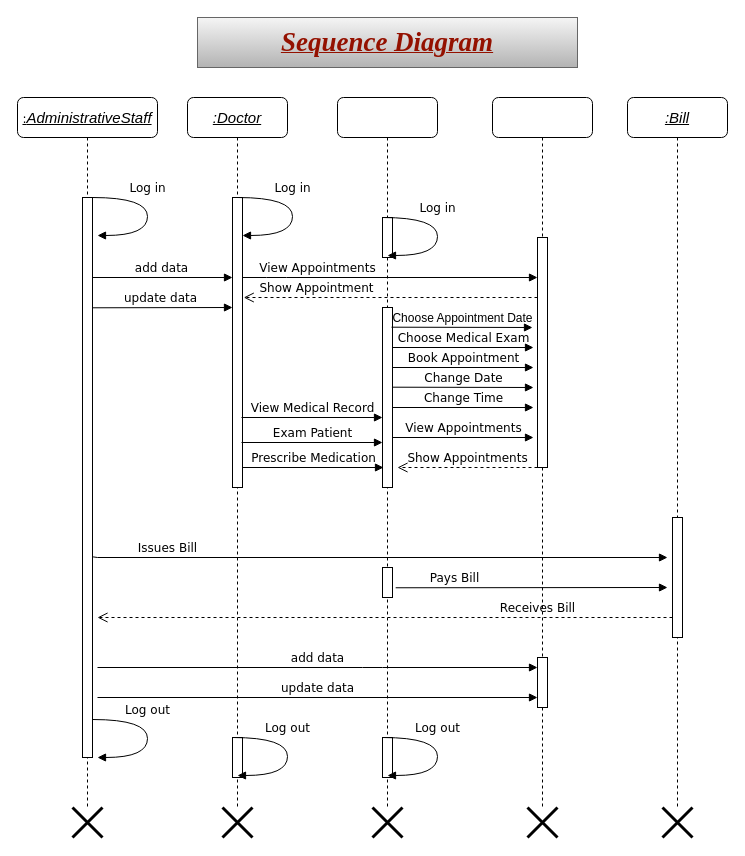
Image size: 745x856. Some labels were removed from this diagram. The centre of each missing label's shape, as x and y in pixels:
: Patient: the point at 387,452
:Appointment: the point at 542,452
